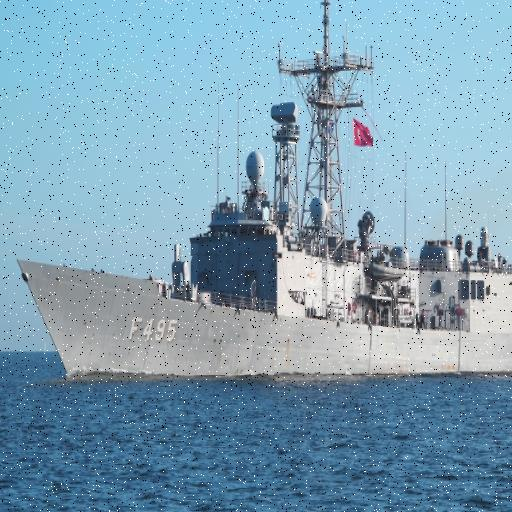Fragata: (14, 1, 512, 394)
